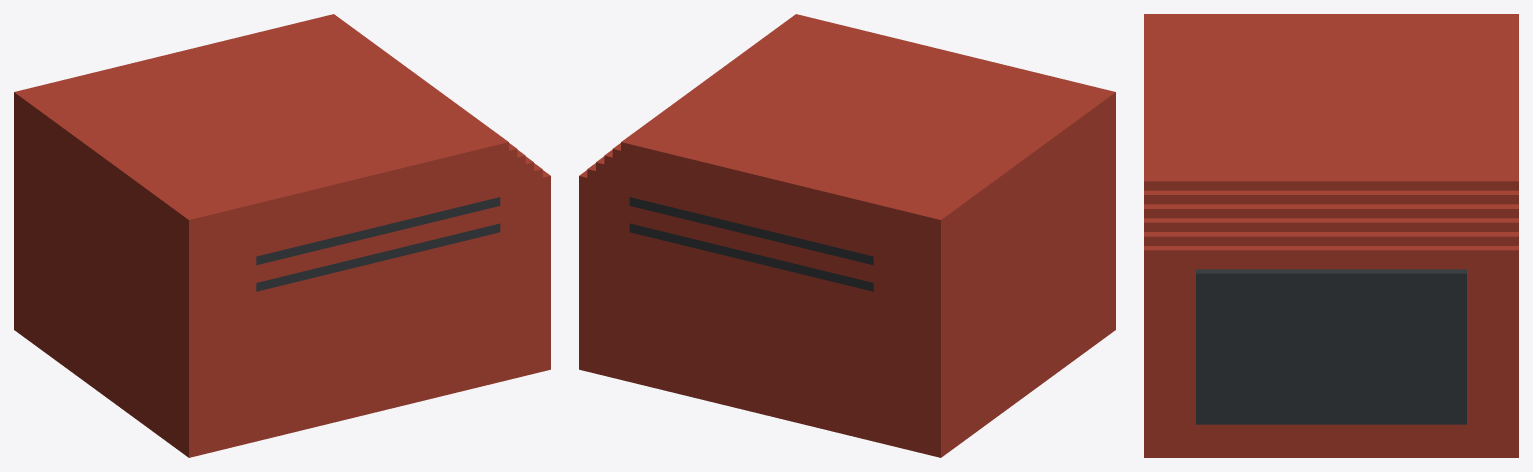
Rendered from trencher_hood.glb.
3 renders of one model, left to right at view 1: azimuth 30°, elevation 25°; view 2: azimuth 150°, elevation 25°; view 3: azimuth 270°, elevation 25°, orthographic. The views are drawn at different scales.
Visible parts, largest first — view 1: body:compound; view 2: body:compound; view 3: body:compound.
Boxes of the visible parts, x1,y1,x2,y2 form: body:compound: (14, 14, 550, 457); body:compound: (579, 14, 1115, 457); body:compound: (1144, 14, 1518, 457).
Size of the model in its own units: 1.38 by 0.8438 by 1.12.
